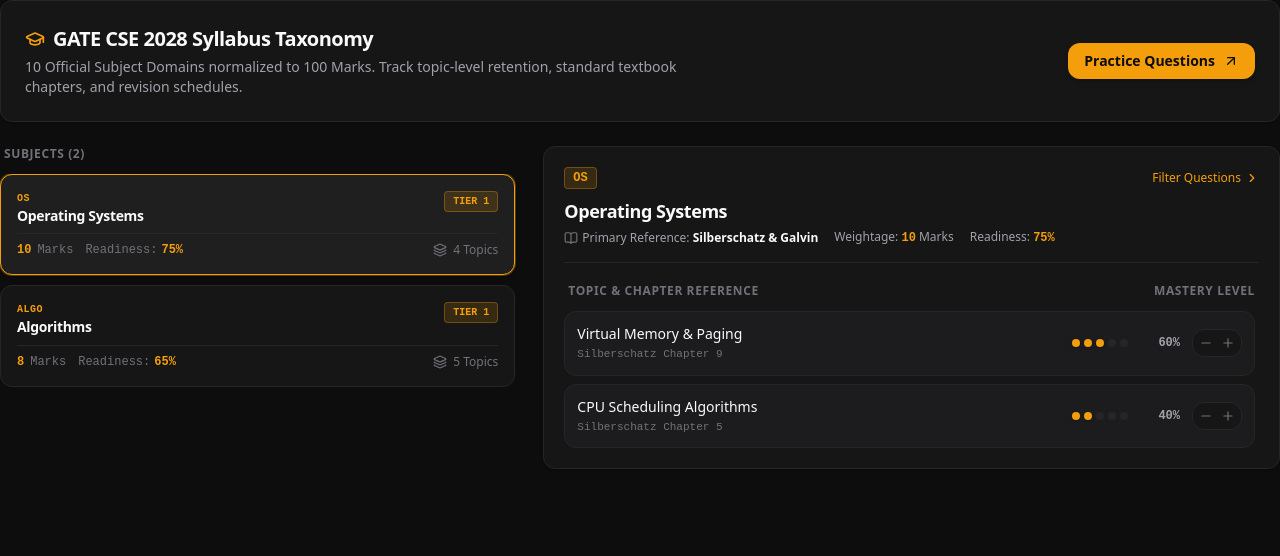
Test: SyllabusPage › honest-judge FAIL - deliberate-conflict 409 error during update displays conflict notification
The image size is (1280, 556).
Click the button titled "Increase Mastery by 10%" next to "60": (1228, 343) left=1217, top=332, right=1239, bottom=354
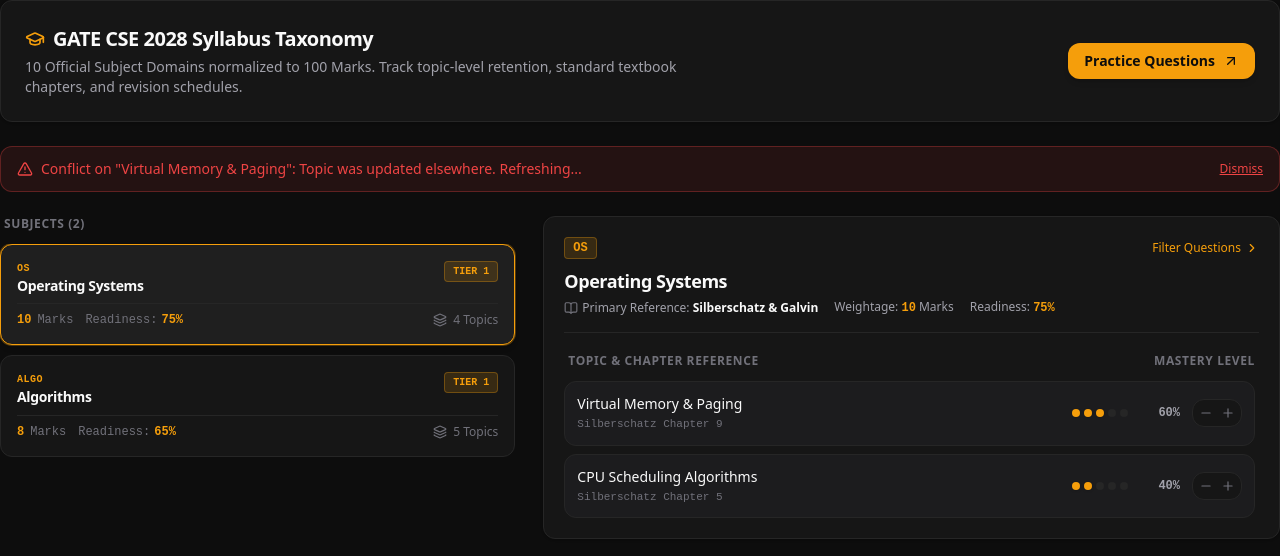
Result: the text "Conflict on \"Virtual Memory & Paging\"" is shown at left=41, top=159, right=582, bottom=178
